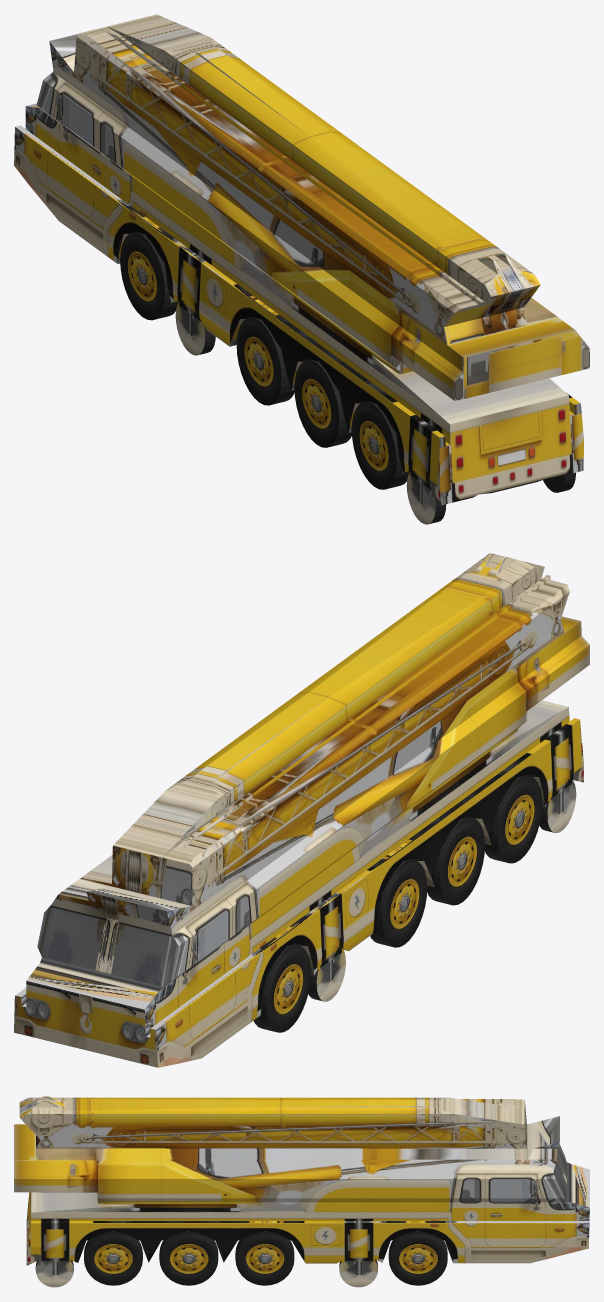
File: mobile_crane.glb
3 views of the same model, one above another, from view 1: azimuth 30°, elevation 25°; view 2: azimuth 150°, elevation 25°; view 3: azimuth 270°, elevation 25° (orthographic). The views are drawn at different scales.
Visible parts, largest first — view 1: mobile_crane, wheel_M2L, wheel_M3L, wheel_FL, wheel_M4L, wheel_M1L, wheel_BL; view 2: mobile_crane, wheel_M2L, wheel_M3L, wheel_M4L, wheel_FL, wheel_M1L, wheel_BL; view 3: mobile_crane, wheel_FR, wheel_M2R, wheel_M3R, wheel_M4R, wheel_M1R, wheel_BR.
Boxes of the visible parts, left/top/right/bottom form: mobile_crane: left=14, top=14, right=589, bottom=504; wheel_M2L: left=236, top=317, right=294, bottom=405; wheel_M3L: left=294, top=360, right=351, bottom=447; wheel_FL: left=120, top=232, right=178, bottom=320; wheel_M4L: left=351, top=401, right=409, bottom=489; wheel_M1L: left=175, top=299, right=215, bottom=355; wheel_BL: left=406, top=469, right=446, bottom=524; mobile_crane: left=14, top=553, right=589, bottom=1067; wheel_M2L: left=370, top=859, right=427, bottom=947; wheel_M3L: left=427, top=817, right=484, bottom=905; wheel_M4L: left=484, top=775, right=542, bottom=863; wheel_FL: left=253, top=945, right=310, bottom=1032; wheel_M1L: left=308, top=945, right=345, bottom=1001; wheel_BL: left=539, top=778, right=576, bottom=832; mobile_crane: left=14, top=1096, right=589, bottom=1265; wheel_FR: left=388, top=1231, right=447, bottom=1285; wheel_M2R: left=235, top=1231, right=294, bottom=1285; wheel_M3R: left=159, top=1231, right=218, bottom=1285; wheel_M4R: left=84, top=1231, right=142, bottom=1285; wheel_M1R: left=339, top=1252, right=377, bottom=1287; wheel_BR: left=35, top=1253, right=73, bottom=1287.
Bounding box in the file's own units: 2.3 × 3.84 × 11.98.
Materials: 3 (1 with a texture image).
